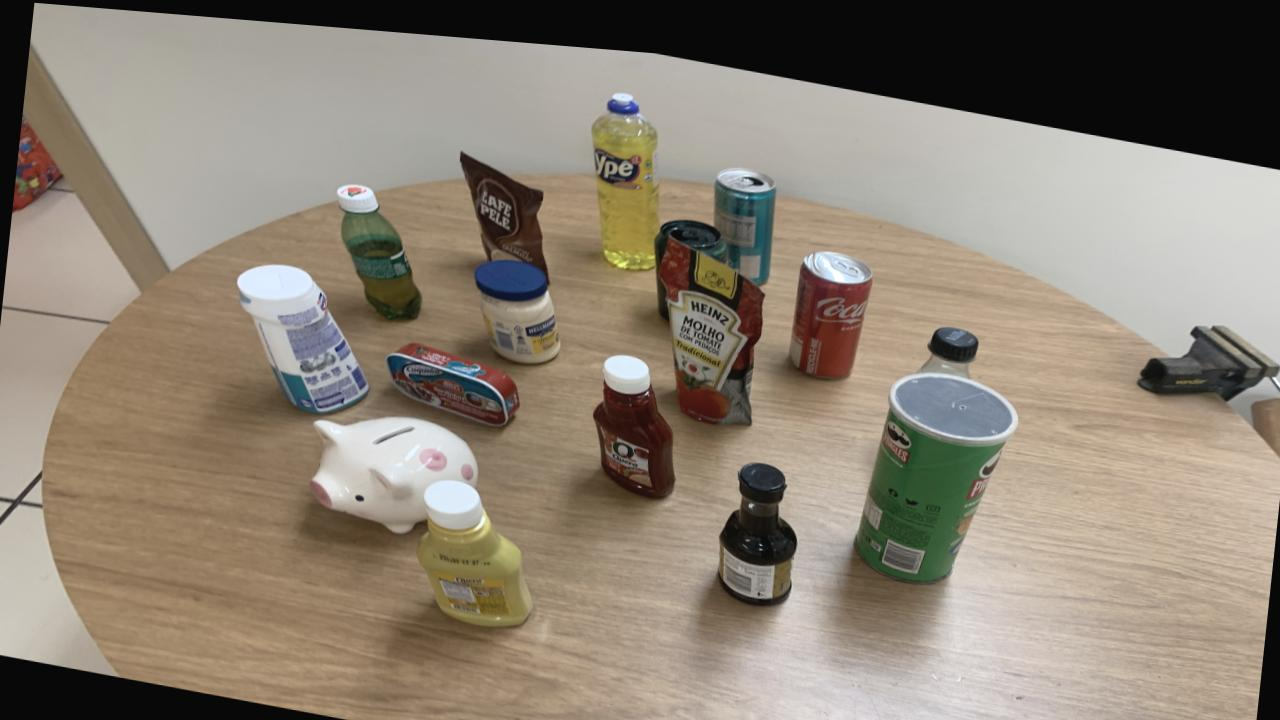Cleaner-Cleanup_Items: (237, 259, 369, 409)
Coffee-Pantry_Items: (459, 144, 549, 268)
Coke-Drinks: (790, 236, 873, 364)
Detergent-Cleanup_Items: (591, 82, 660, 259)
English_Sauce-Pantry_Items: (719, 449, 797, 592)
Guarana-Drinks: (336, 178, 422, 313)
Guarana_Can-Drinks: (653, 207, 728, 257), (656, 261, 670, 308)
Ketchup-Pantry_Items: (594, 344, 676, 487)
Mayonnaise-Pantry_Items: (475, 251, 561, 355), (479, 282, 561, 355)
Mustard-Pantry_Items: (417, 472, 532, 618)
Pig_Safe-Miscellaneous: (310, 409, 479, 527)
Pringles-Snacks: (854, 346, 1019, 567)
Soda-Drinks: (918, 310, 980, 362)
Tea-Drinks: (713, 154, 776, 271)
Tomato_Sauce-Pantry_Items: (657, 225, 764, 412)
Tuna_Can-Pantry_Items: (386, 336, 520, 418)
